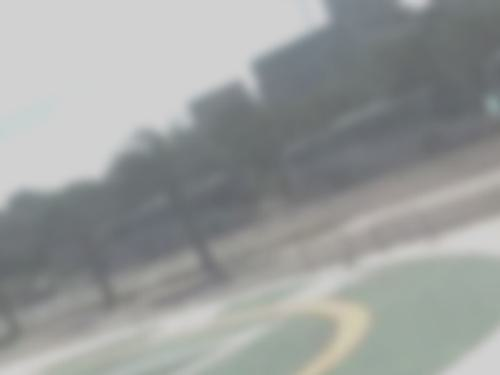Apron: (29, 275, 386, 375)
